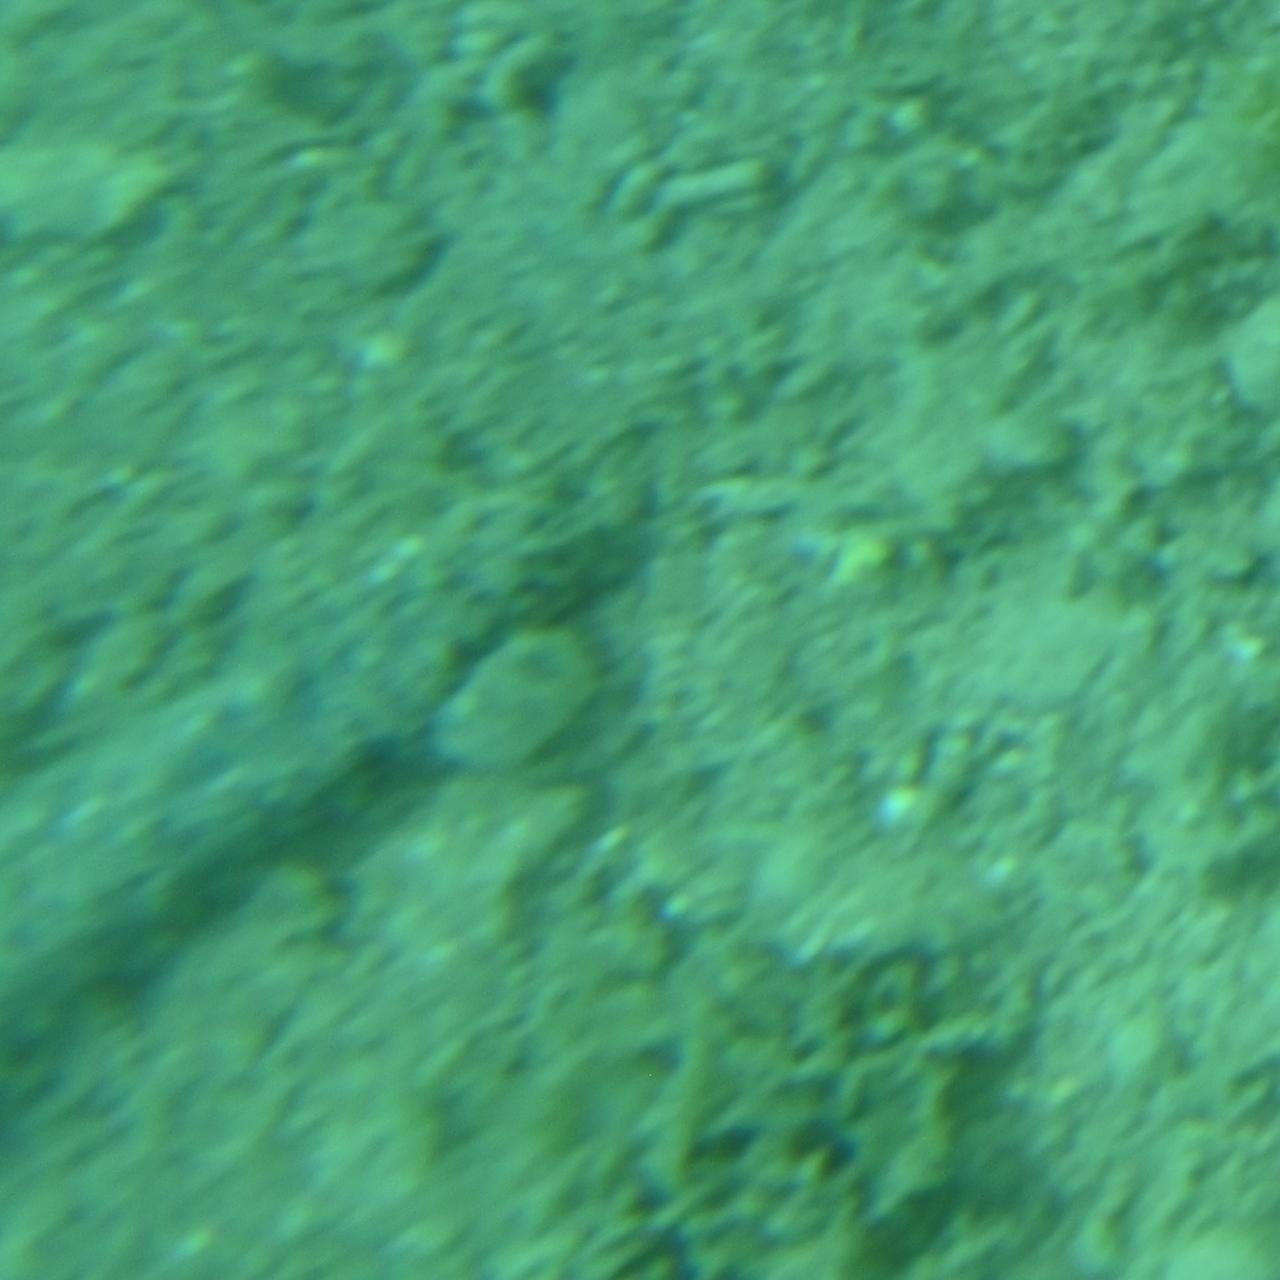Holothuria tubulosa: (0, 571, 490, 1051)
